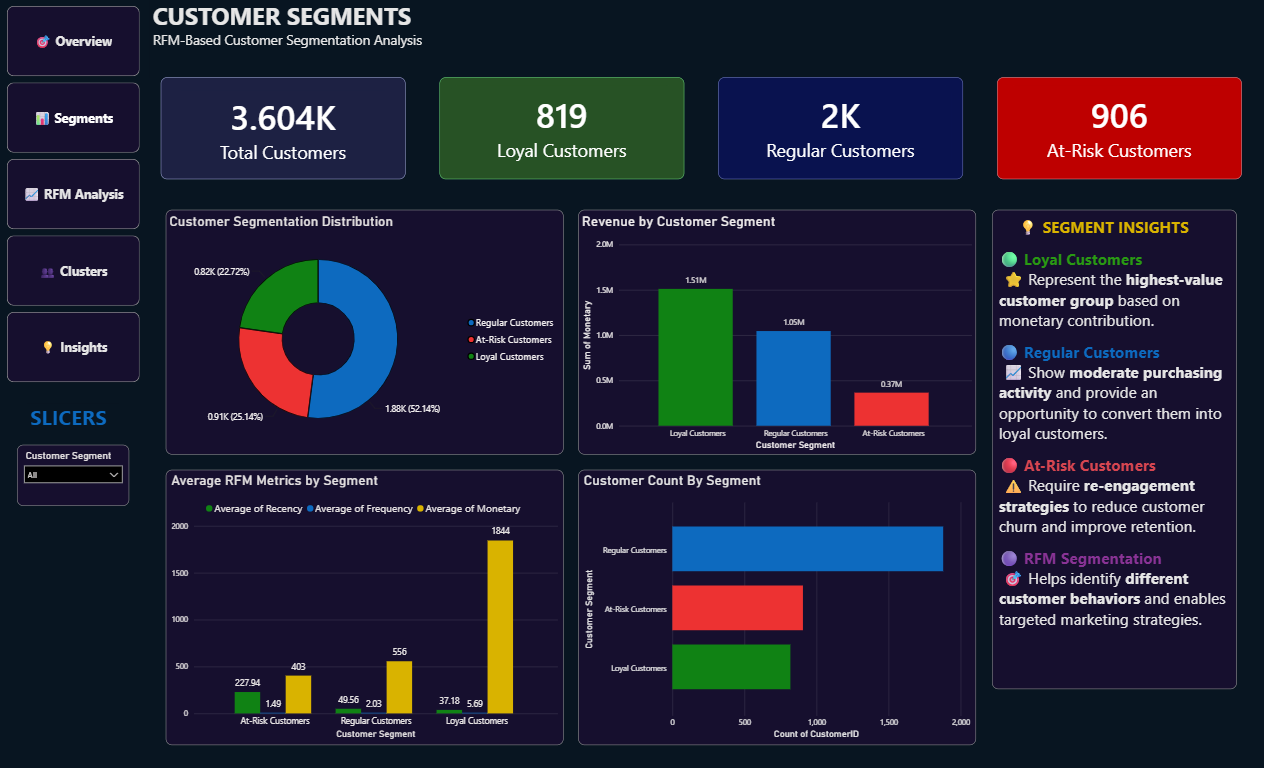

Layout of this report page (visuals, bound fields, positions):
{"tool":"powerbi","page":{"name":"📊 Segments","canvas":[1990,1220],"ordinal":1},"visuals":[{"type":"textbox","box":[240,0,576,128],"z":0},{"type":"pageNavigator","box":[16,16,208,592],"z":1000},{"type":"cardVisual","fields":{"Data":["Count(Customer_Segments.CustomerID)"]},"box":[256,128,384,160],"z":2000},{"type":"cardVisual","fields":{"Data":["Customer_Segments.At-Risk Customers"]},"box":[1568,128,384,160],"z":3000},{"type":"cardVisual","fields":{"Data":["Customer_Segments.Loyal Customers"]},"box":[693.3,128,384,160],"z":4000},{"type":"cardVisual","fields":{"Data":["Customer_Segments.Regular Customers"]},"box":[1130.7,128,384,160],"z":5000},{"type":"donutChart","title":" Customer Segmentation Distribution","fields":{"Category":["Customer_Segments.CustomerSegment"],"Y":["Count(Customer_Segments.CustomerID)"]},"box":[264,336,624,384],"z":6000},{"type":"clusteredColumnChart","title":"Revenue by Customer Segment","fields":{"Category":["Customer_Segments.CustomerSegment"],"Y":["Sum(Customer_Segments.Monetary)"]},"box":[912,336,624,384],"z":7000},{"type":"clusteredColumnChart","title":"Average RFM  Metrics by Segment","fields":{"Category":["Customer_Segments.CustomerSegment"],"Y":["Avg(Customer_Segments.Recency)","Avg(Customer_Segments.Frequency)","Avg(Customer_Segments.Monetary)"]},"box":[264,744,624,432],"z":8000},{"type":"slicer","fields":{"Values":["Customer_Segments.CustomerSegment"]},"box":[32,704,176,96],"z":9000},{"type":"barChart","title":"Customer Count By Segment","fields":{"Category":["Customer_Segments.CustomerSegment"],"Y":["Count(Customer_Segments.CustomerID)"]},"box":[912,744,624,432],"z":10000},{"type":"textbox","box":[1560,336,384,752],"z":11000},{"type":"textbox","title":"SLICERS","box":[48,640,144,48],"z":12000}]}

Visuals, with their boxes in screenshot pixels (x1, y1, x2, y2), scaled from the page's 1990x1220 canvas onto the 1264x768 screenshot:
textbox: x1=152, y1=0, x2=518, y2=81
pageNavigator: x1=10, y1=10, x2=142, y2=383
cardVisual - Count(Customer_Segments.CustomerID): x1=163, y1=81, x2=407, y2=181
cardVisual - Customer_Segments.At-Risk Customers: x1=996, y1=81, x2=1240, y2=181
cardVisual - Customer_Segments.Loyal Customers: x1=440, y1=81, x2=684, y2=181
cardVisual - Customer_Segments.Regular Customers: x1=718, y1=81, x2=962, y2=181
" Customer Segmentation Distribution" donutChart: x1=168, y1=212, x2=564, y2=453
"Revenue by Customer Segment" clusteredColumnChart: x1=579, y1=212, x2=976, y2=453
"Average RFM  Metrics by Segment" clusteredColumnChart: x1=168, y1=468, x2=564, y2=740
slicer - Customer_Segments.CustomerSegment: x1=20, y1=443, x2=132, y2=504
"Customer Count By Segment" barChart: x1=579, y1=468, x2=976, y2=740
textbox: x1=991, y1=212, x2=1235, y2=685
"SLICERS" textbox: x1=30, y1=403, x2=122, y2=433
